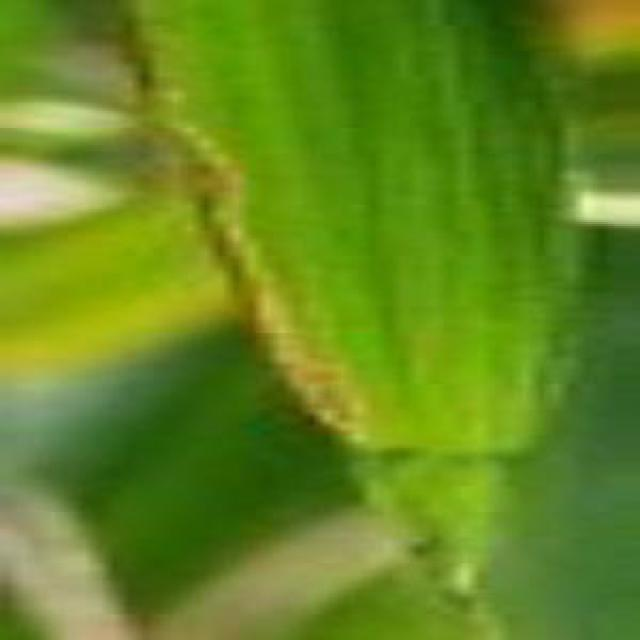Bacterial_Blight: (173, 123, 360, 440)
